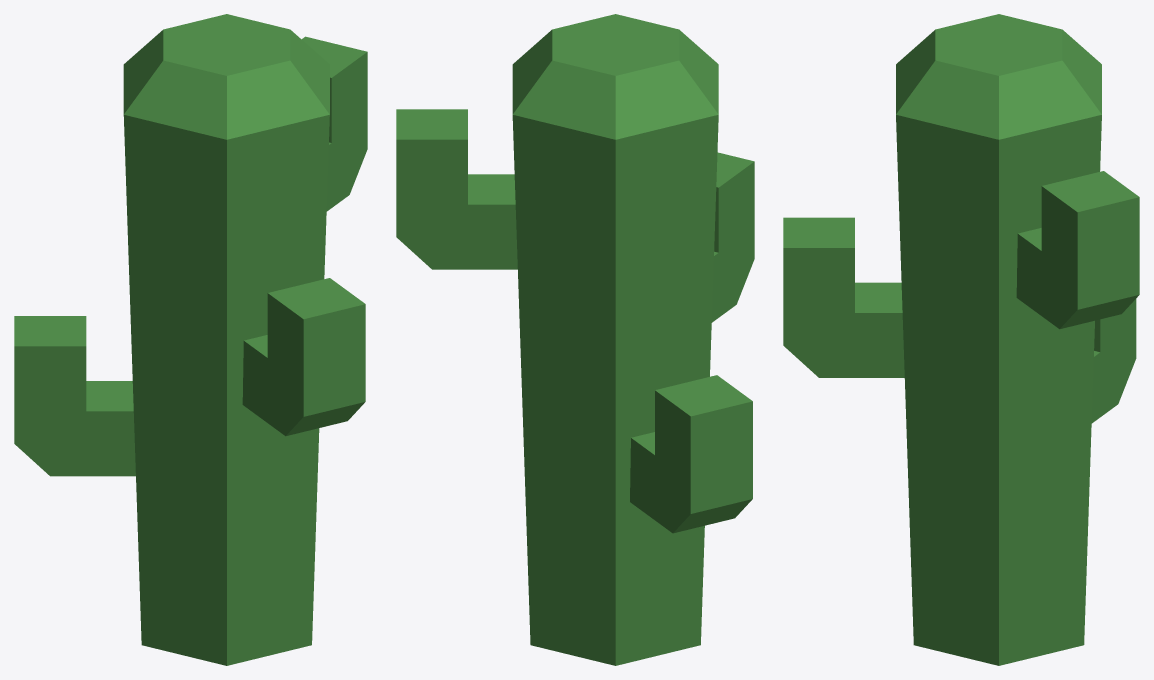
File: cactus_small.glb
3 renders of one model, left to right at view 1: azimuth 30°, elevation 25°; view 2: azimuth 150°, elevation 25°; view 3: azimuth 270°, elevation 25°, orthographic.
Visible parts, largest first — view 1: cactus_small; view 2: cactus_small; view 3: cactus_small.
Part boxes in pixels (left/top/right/bottom): cactus_small: left=14, top=14, right=367, bottom=665; cactus_small: left=396, top=14, right=754, bottom=665; cactus_small: left=783, top=14, right=1139, bottom=665.
Bounding box in the file's own units: 1.54 × 2.4 × 1.34.
